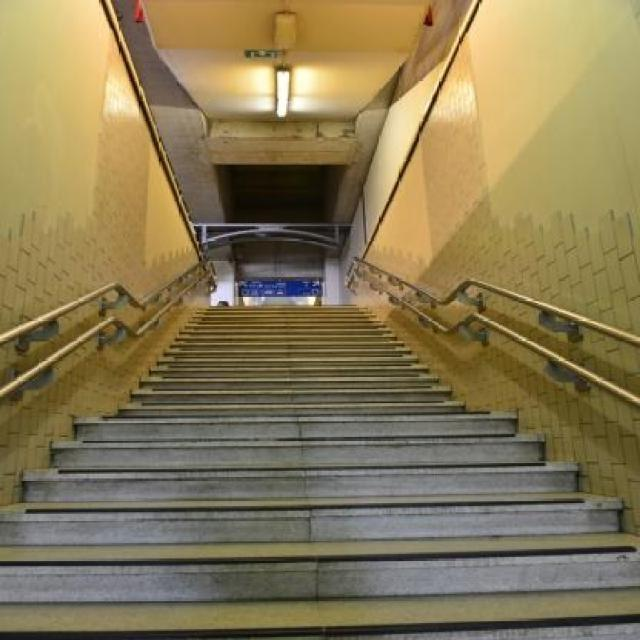stair: (0, 303, 640, 640)
